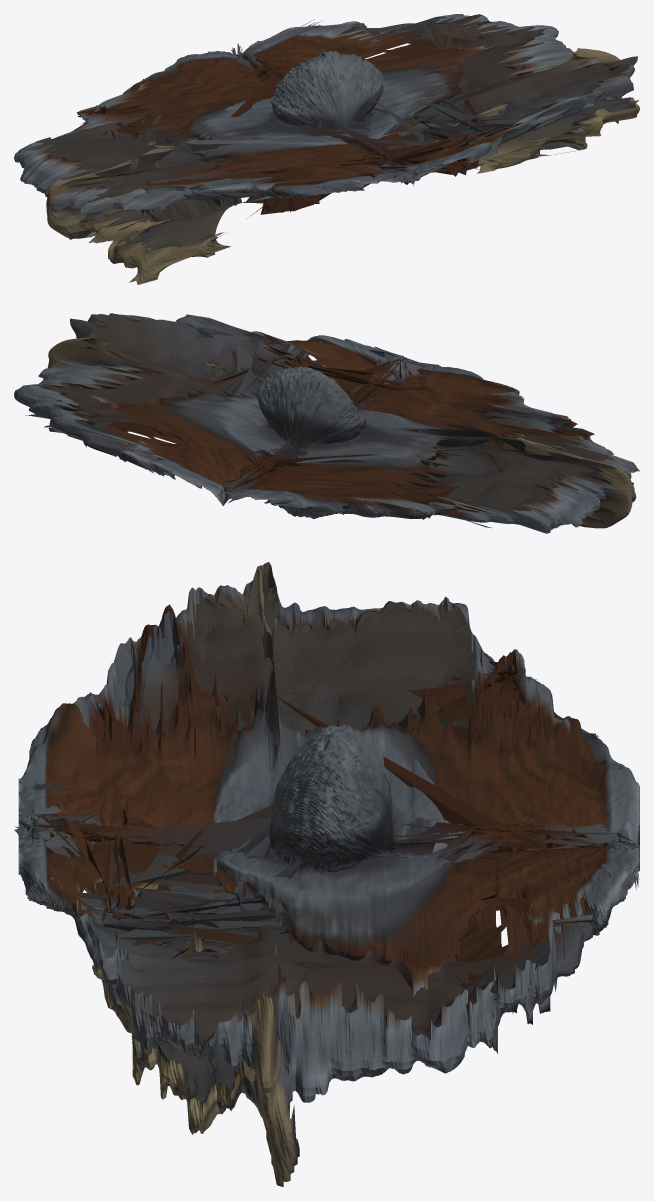
File: membrane3_mesh.glb
The picture shows the model from 3 angles, top to bottom: view 1: azimuth 30°, elevation 25°; view 2: azimuth 150°, elevation 25°; view 3: azimuth 270°, elevation 25°; orthographic projection. The views are drawn at different scales.
Visible parts, largest first — view 1: ipn, fill; view 2: ipn, fill; view 3: ipn, fill.
Boxes of the visible parts, x1,y1,x2,y2 form: ipn: (14,14,639,284); fill: (24,14,637,281); ipn: (14,313,639,533); fill: (33,313,633,526); ipn: (18,562,639,1186); fill: (14,562,633,1142).
Size of the model in its own units: 1.95 by 0.4626 by 1.05.
2 materials, 1 textured.
